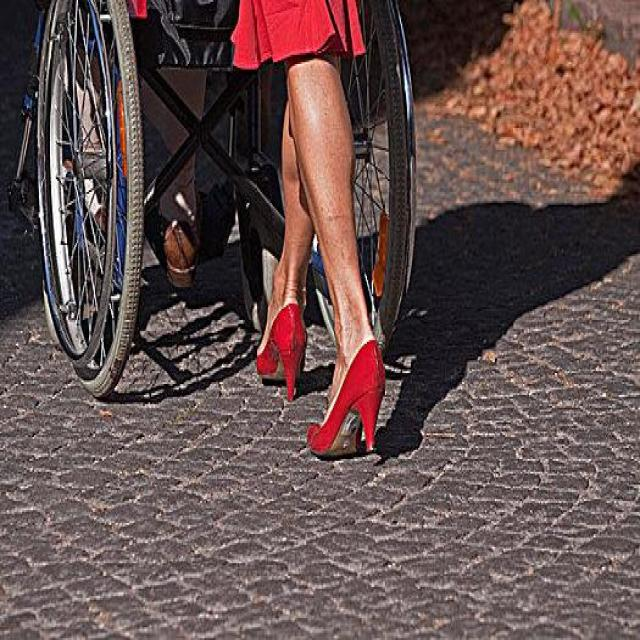wheelchairs: (6, 0, 430, 396)
